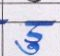u_matra: (15, 40, 42, 55)
